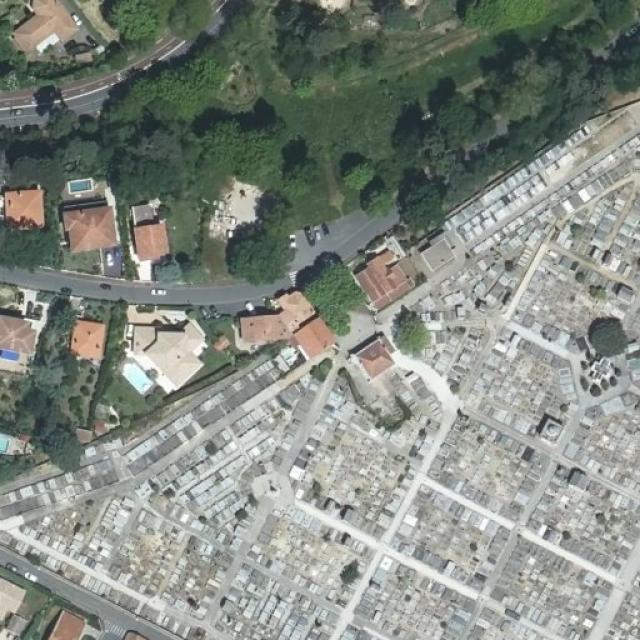immeuble: (98, 304, 216, 393), (225, 292, 350, 366), (343, 232, 435, 316)
maison: (58, 202, 126, 262), (118, 205, 176, 274), (51, 309, 112, 367), (0, 174, 48, 240), (349, 323, 399, 386)
piscine: (113, 351, 160, 401), (58, 175, 98, 203), (0, 339, 25, 368), (0, 425, 22, 455)
